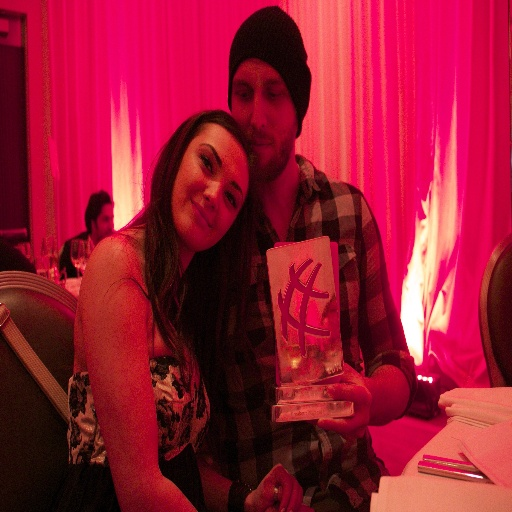hand: (317, 359, 370, 437), (254, 462, 303, 511)
